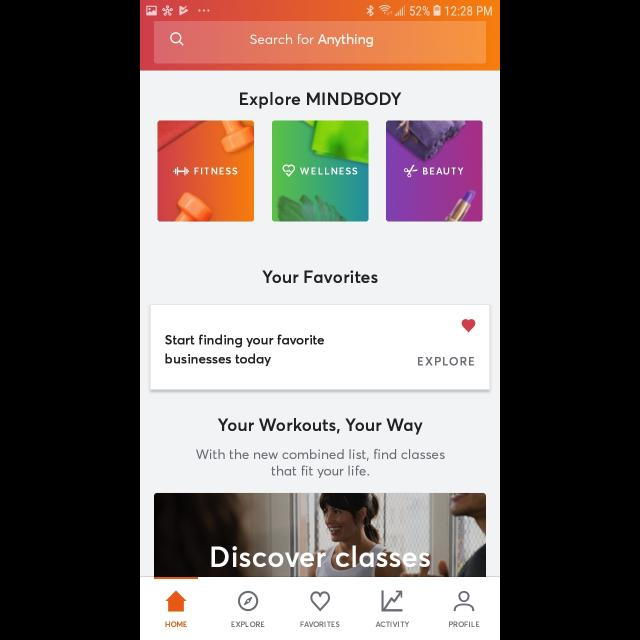icon: (166, 590, 188, 612), (381, 590, 403, 612), (238, 590, 258, 612), (454, 590, 474, 612), (310, 592, 330, 612), (171, 33, 185, 47), (461, 319, 475, 333)
image: (154, 493, 486, 577), (158, 120, 255, 222), (272, 120, 368, 222), (386, 120, 482, 222)
input: (154, 21, 486, 64)
text: (196, 449, 444, 479), (166, 334, 324, 366), (218, 417, 422, 435), (240, 92, 402, 110), (250, 33, 374, 47), (262, 270, 378, 284), (418, 356, 474, 366), (300, 621, 340, 627), (231, 621, 265, 627), (375, 621, 409, 627), (448, 621, 479, 627), (165, 621, 187, 627)
uppertaskbar: (140, 1, 500, 18)
